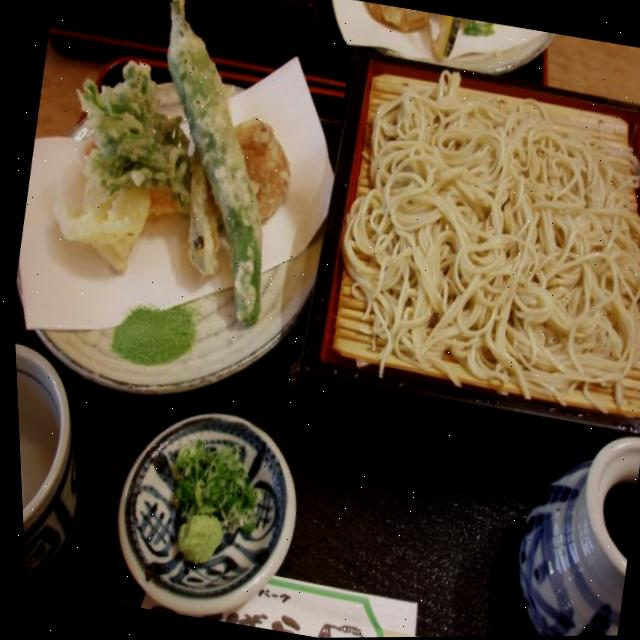蔬菜料理: (11, 0, 335, 349)
